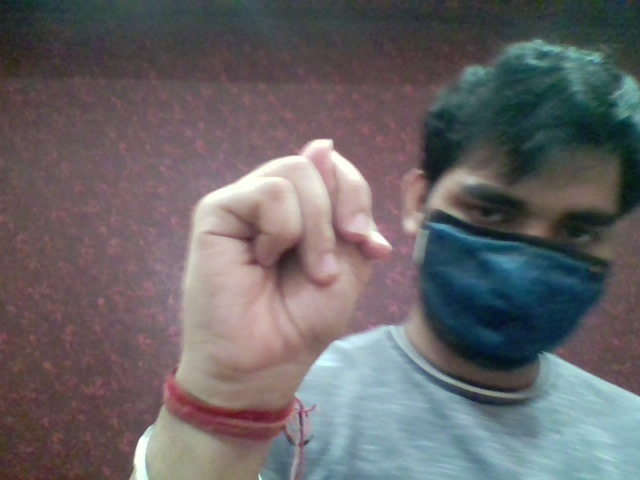n: (166, 125, 396, 376)
